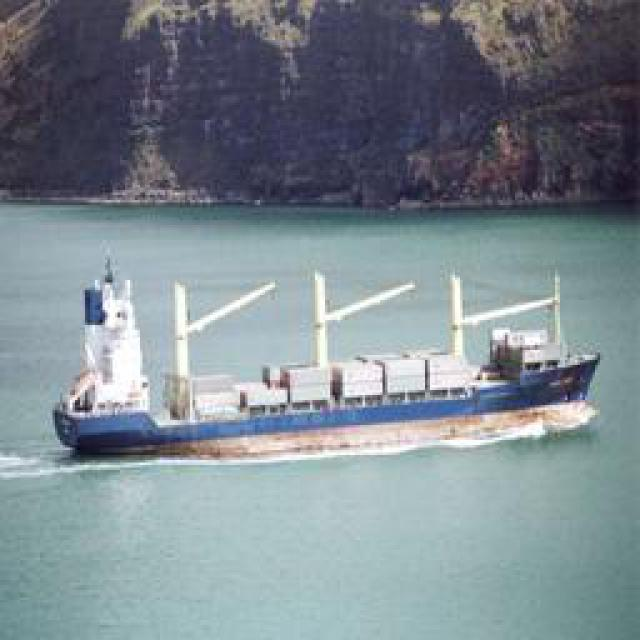Ship: (60, 261, 620, 466)
